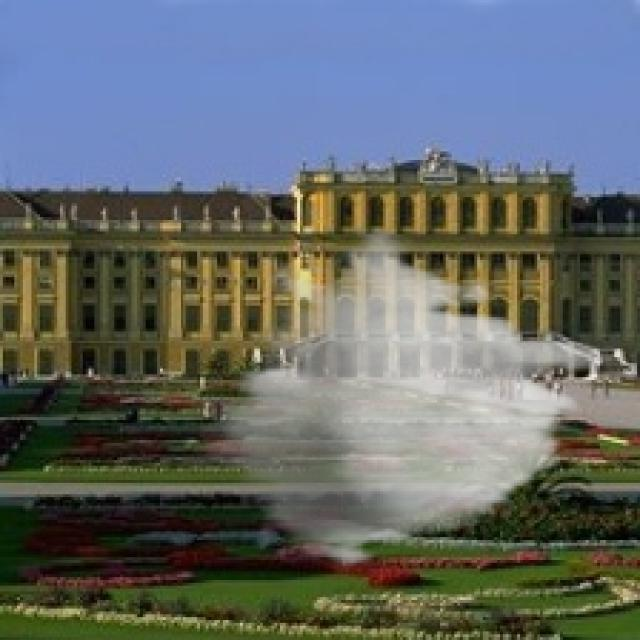Smoke: (192, 226, 612, 568)
